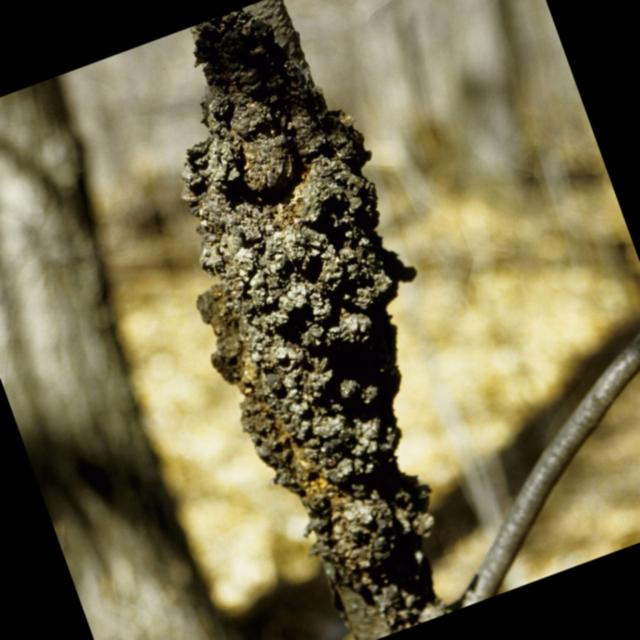Black_knot: (179, 1, 440, 636)
